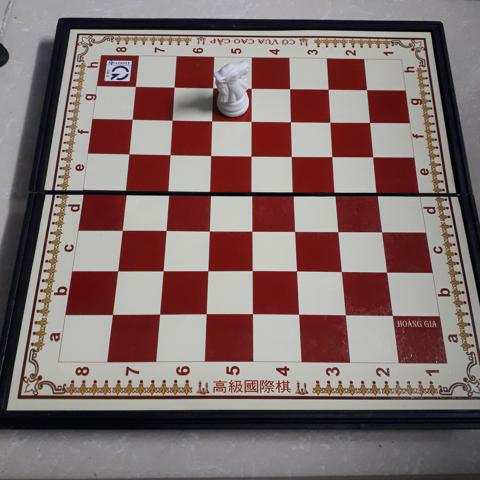xcorner: (245, 306, 261, 323), (244, 262, 261, 278), (289, 262, 305, 279), (113, 220, 129, 237), (200, 221, 217, 237), (370, 183, 386, 200), (120, 145, 137, 161), (284, 147, 301, 163), (243, 112, 260, 128), (322, 113, 339, 129), (166, 79, 182, 96), (104, 306, 120, 322), (151, 306, 167, 322), (198, 306, 214, 322), (291, 307, 307, 323), (338, 307, 354, 323), (384, 307, 400, 323), (109, 262, 125, 278), (154, 262, 170, 278), (199, 262, 215, 278), (334, 263, 350, 279), (379, 263, 395, 279), (157, 221, 173, 237), (244, 221, 260, 237), (288, 221, 304, 237), (331, 222, 347, 238), (374, 222, 390, 238), (117, 182, 133, 198), (159, 182, 175, 198), (202, 182, 218, 198), (244, 183, 260, 199), (286, 183, 302, 199), (328, 183, 344, 199), (162, 146, 178, 162), (203, 146, 219, 162), (244, 146, 260, 162), (325, 147, 341, 163), (366, 147, 382, 163), (124, 111, 140, 127), (164, 112, 180, 128), (204, 112, 220, 128), (283, 113, 299, 129), (362, 114, 378, 130), (127, 79, 143, 95), (205, 80, 221, 96), (243, 80, 259, 96), (282, 81, 298, 97), (320, 81, 336, 97), (358, 82, 374, 98)
